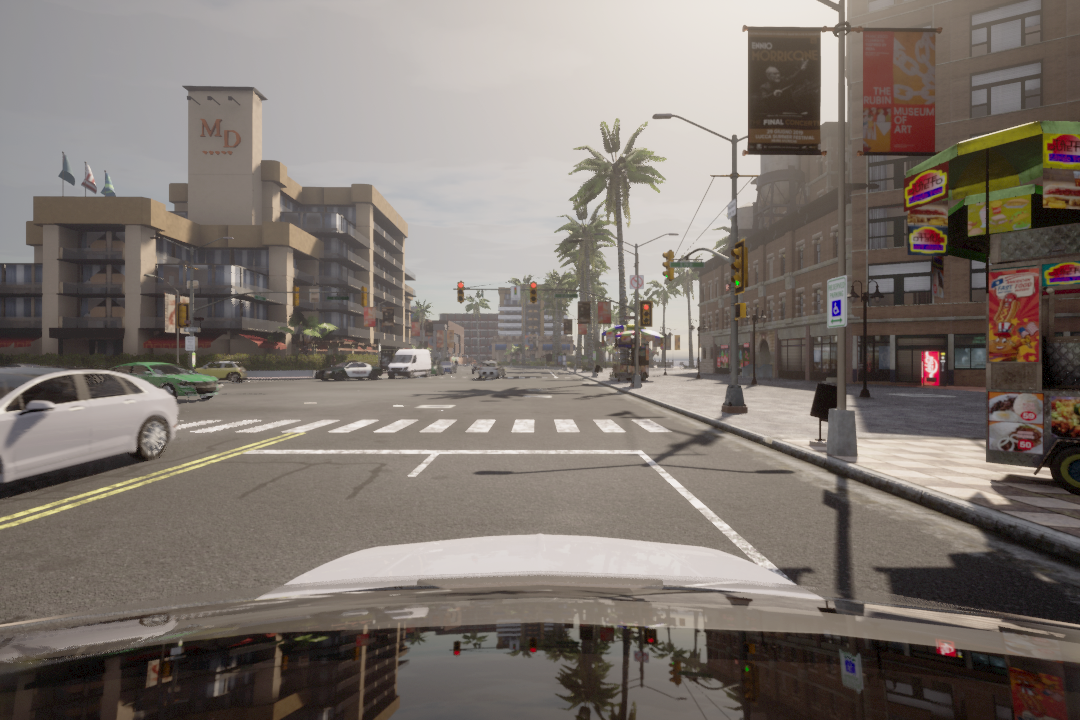TrafficLight: (731, 243, 748, 293), (661, 248, 679, 284), (641, 297, 654, 327), (453, 280, 467, 306), (530, 279, 537, 304)
TrafficSign: (628, 274, 645, 291)
walkside: (162, 413, 687, 441)
